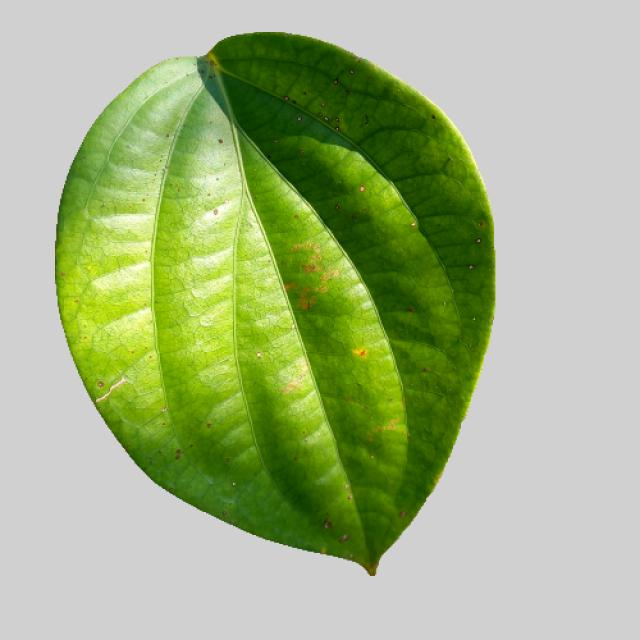healthy: (57, 30, 498, 580)
